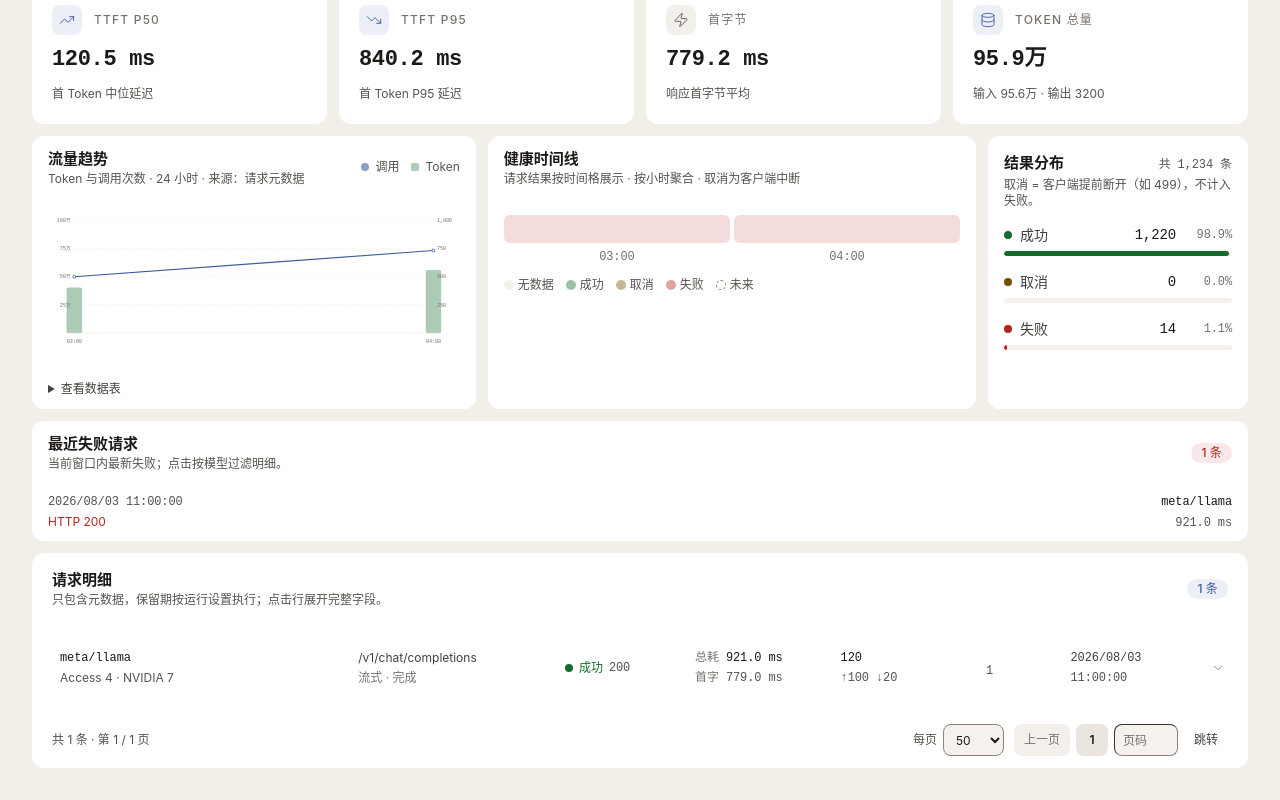
Test: StatisticsView monitoring dashboard › loads KPI row, traffic chart, health timeline, outcome list and row cards
The width and height of the screenshot is (1280, 800).
(page scrolled)
Expected: the element with test id "traffic-chart" shows "流量趋势", [48, 148, 108, 168]
Expected: the element with test id "health-timeline" shows "健康时间线", [504, 148, 579, 168]
Click the button with test id "request-row-req-safe". click: (95, 658)
box: [48, 640, 1232, 696]
(page scrolled)
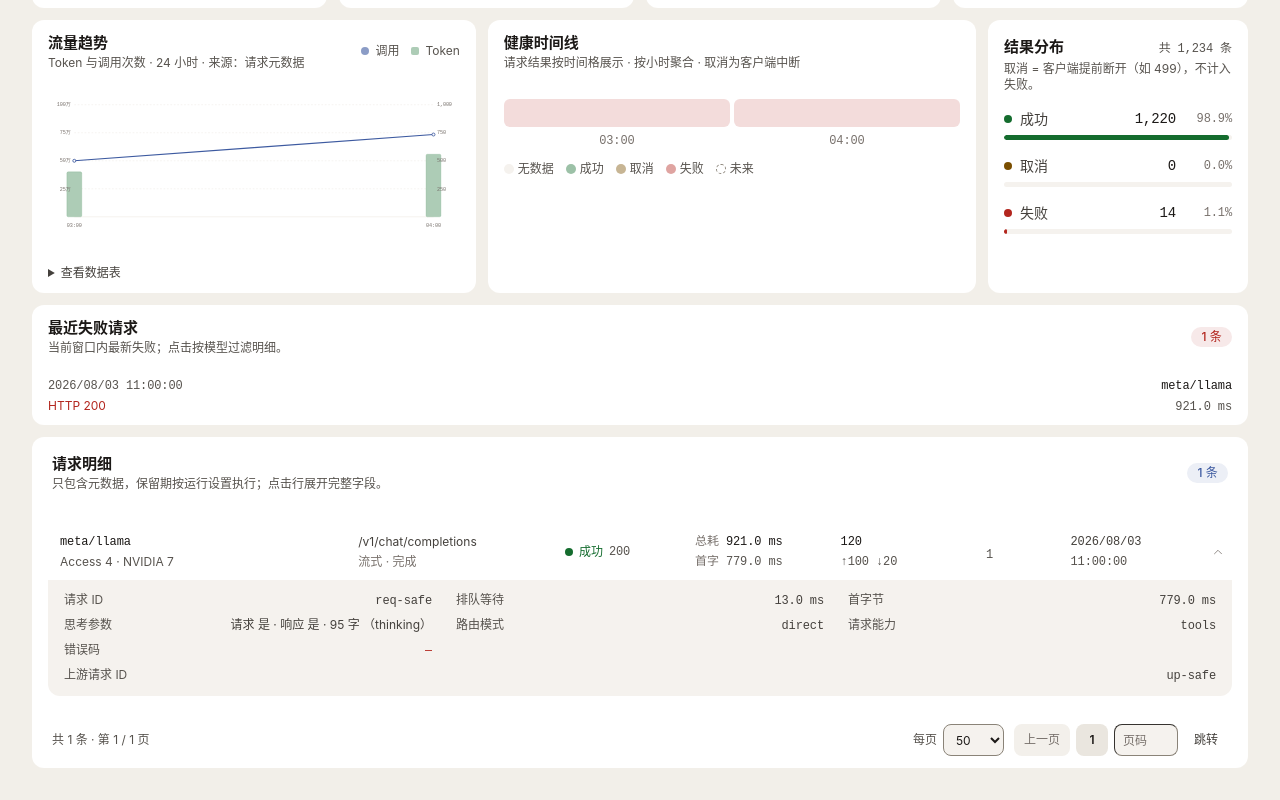
Expected: the element with test id "request-row-detail" shows "req-safe", [375, 594, 432, 608]
Expected: the element with test id "request-row-detail" shows "up-safe", [1166, 670, 1216, 684]
Expected: the element with test id "request-row-detail" shows "思考", [48, 580, 1232, 696]
